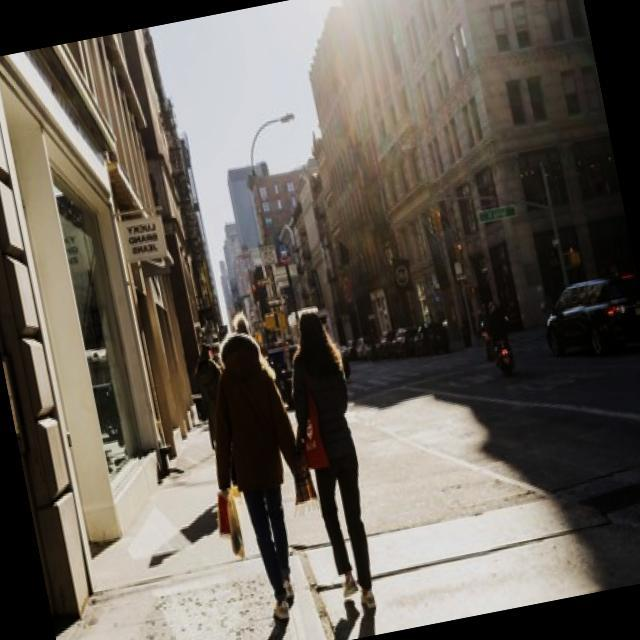person: (174, 293, 335, 636), (271, 297, 402, 628), (178, 336, 238, 462)
